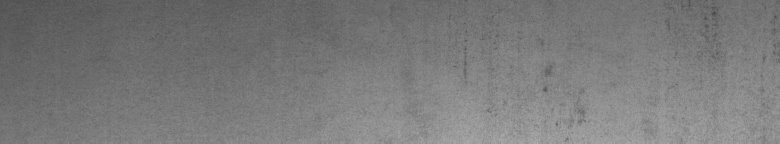ib: (464, 32, 589, 128)
